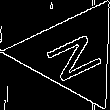N_NE: (36, 24, 108, 84)
